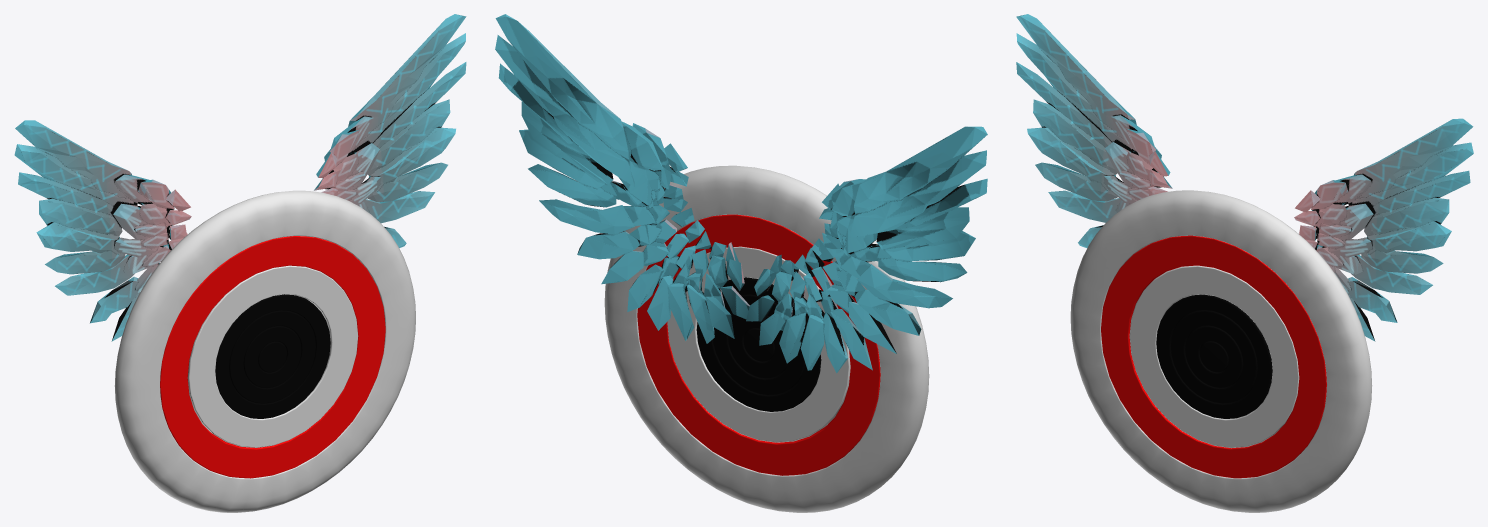
Rendered from bullseye_target_winged.glb.
The picture shows the model from 3 angles, left to right: view 1: azimuth 30°, elevation 25°; view 2: azimuth 150°, elevation 25°; view 3: azimuth 330°, elevation 25°; orthographic projection. The views are drawn at different scales.
Parts seen in each view (by area): view 1: SM_Bullseye_06, Plane.009_0.001, SM_Bullseye_05, Plane.009, SM_Bullseye_04, SM_Bullseye_03, SM_Bullseye_02, SM_Bullseye_01, SM_Bullseye_00; view 2: Plane.009, Plane.009_0.001, SM_Bullseye_06, SM_Bullseye_05, SM_Bullseye_04, SM_Bullseye_03, SM_Bullseye_02, SM_Bullseye_01, SM_Bullseye_00; view 3: SM_Bullseye_06, Plane.009, SM_Bullseye_05, Plane.009_0.001, SM_Bullseye_04, SM_Bullseye_03, SM_Bullseye_02, SM_Bullseye_01, SM_Bullseye_00.
Boxes of the visible parts, x1=… form: SM_Bullseye_06: x1=114, y1=190, x2=415, y2=512; Plane.009_0.001: x1=14, y1=120, x2=191, y2=341; SM_Bullseye_05: x1=160, y1=236, x2=385, y2=478; Plane.009: x1=314, y1=14, x2=466, y2=247; SM_Bullseye_04: x1=187, y1=265, x2=358, y2=447; SM_Bullseye_03: x1=215, y1=294, x2=330, y2=418; SM_Bullseye_02: x1=229, y1=310, x2=315, y2=403; SM_Bullseye_01: x1=243, y1=326, x2=301, y2=388; SM_Bullseye_00: x1=258, y1=341, x2=286, y2=372; Plane.009: x1=495, y1=14, x2=752, y2=343; Plane.009_0.001: x1=746, y1=126, x2=987, y2=373; SM_Bullseye_06: x1=604, y1=165, x2=929, y2=512; SM_Bullseye_05: x1=637, y1=214, x2=880, y2=475; SM_Bullseye_04: x1=667, y1=246, x2=850, y2=442; SM_Bullseye_03: x1=696, y1=277, x2=821, y2=411; SM_Bullseye_02: x1=713, y1=294, x2=805, y2=395; SM_Bullseye_01: x1=728, y1=316, x2=788, y2=378; SM_Bullseye_00: x1=743, y1=328, x2=774, y2=361; SM_Bullseye_06: x1=1070, y1=190, x2=1372, y2=512; Plane.009: x1=1294, y1=118, x2=1473, y2=341; SM_Bullseye_05: x1=1101, y1=235, x2=1326, y2=478; Plane.009_0.001: x1=1016, y1=14, x2=1172, y2=247; SM_Bullseye_04: x1=1129, y1=265, x2=1299, y2=448; SM_Bullseye_03: x1=1156, y1=294, x2=1272, y2=418; SM_Bullseye_02: x1=1170, y1=310, x2=1257, y2=403; SM_Bullseye_01: x1=1185, y1=325, x2=1242, y2=387; SM_Bullseye_00: x1=1199, y1=341, x2=1228, y2=372.
Size of what is drawn, in the model's own units: 30.56 by 27.26 by 4.18.
Materials: 6 (2 with a texture image).
